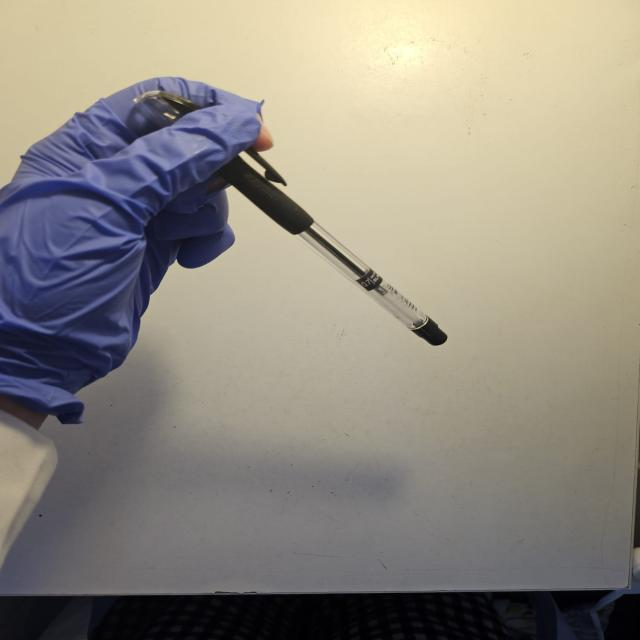gloves_damaged: (0, 72, 273, 413)
